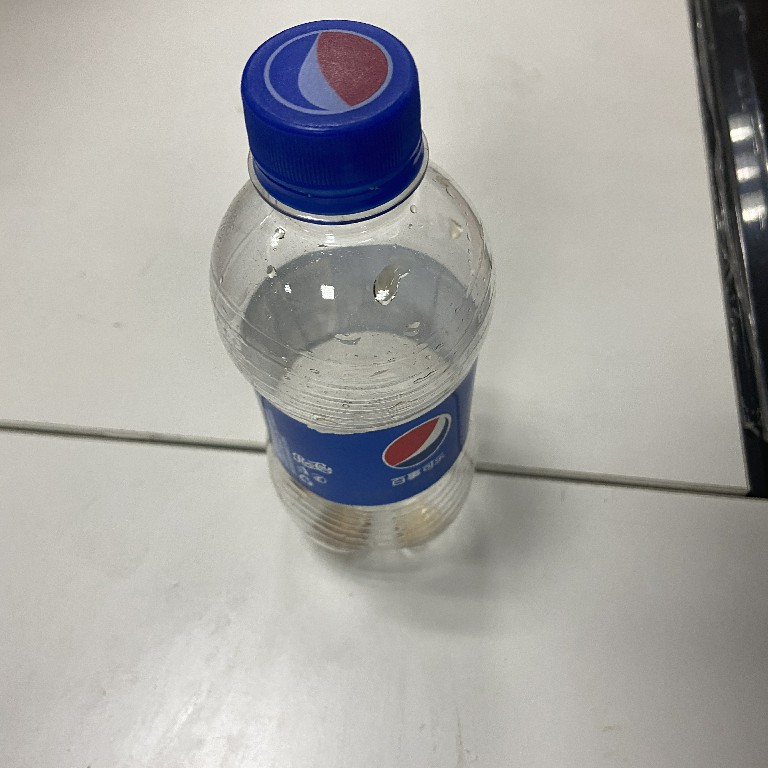bottle: (198, 13, 499, 563)
